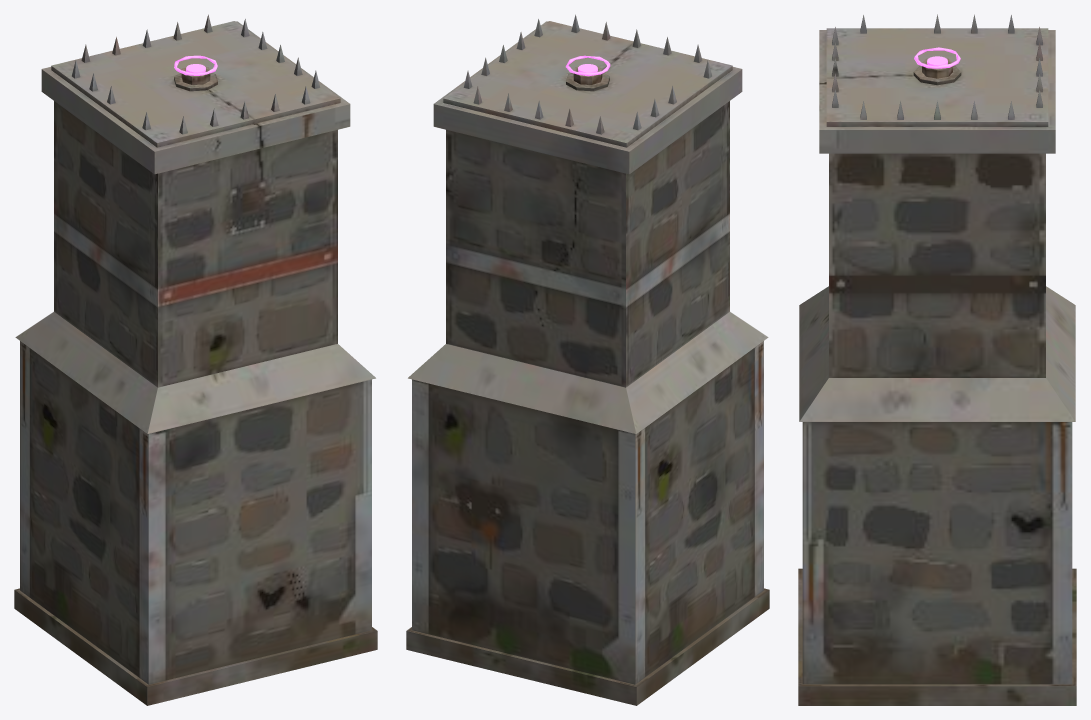
The model's file is muro_centro.glb.
The picture shows the model from 3 angles, left to right: view 1: azimuth 30°, elevation 25°; view 2: azimuth 150°, elevation 25°; view 3: azimuth 270°, elevation 25°; orthographic projection. The views are drawn at different scales.
Visible parts, largest first — view 1: muro_centro_corpo; view 2: muro_centro_corpo; view 3: muro_centro_corpo, muro_cx_violeta.
Part boxes in pixels (x1,y1,x2,y2): muro_centro_corpo: (14,14,377,705); muro_centro_corpo: (406,14,769,705); muro_centro_corpo: (798,14,1076,705); muro_cx_violeta: (914,47,960,68).
Size of the model in its own units: 0.64 by 1.5 by 0.64.
3 materials, 1 textured.
